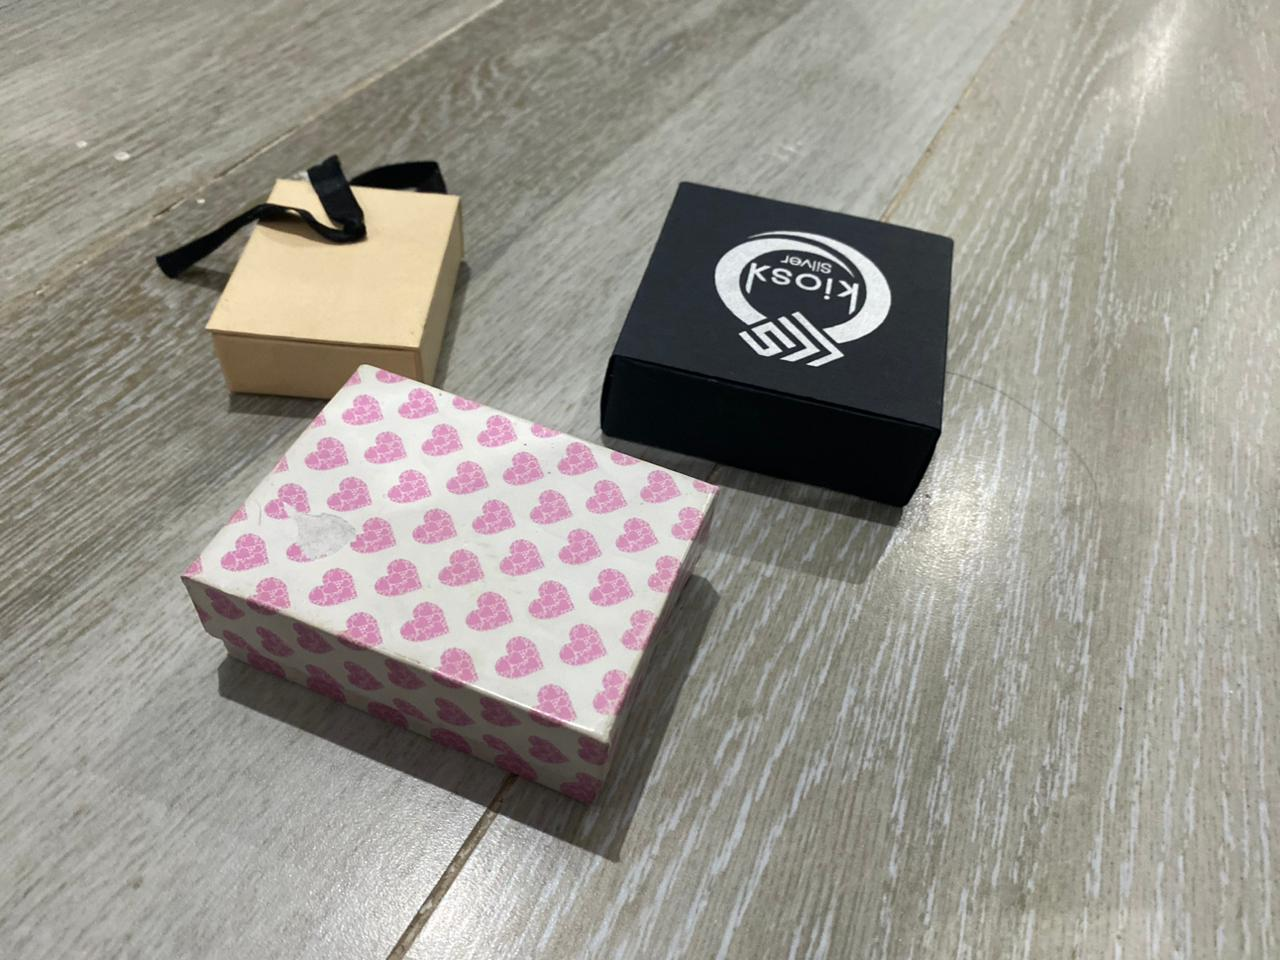Pink Box: (178, 362, 721, 817)
Red Box: (598, 174, 959, 510)
Yellow Box: (211, 173, 469, 409)
